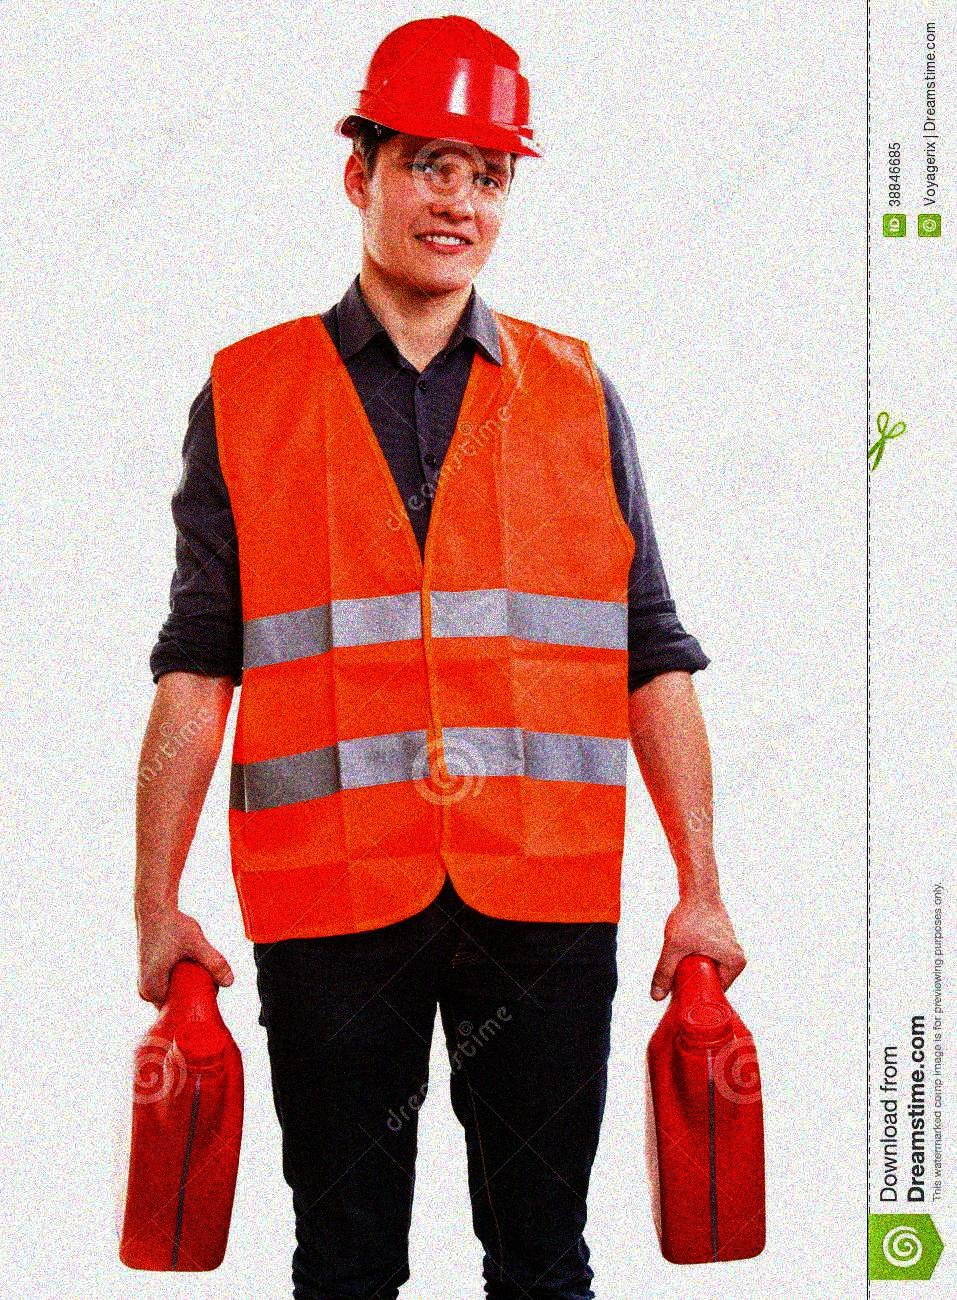helmet: (338, 10, 553, 288)
